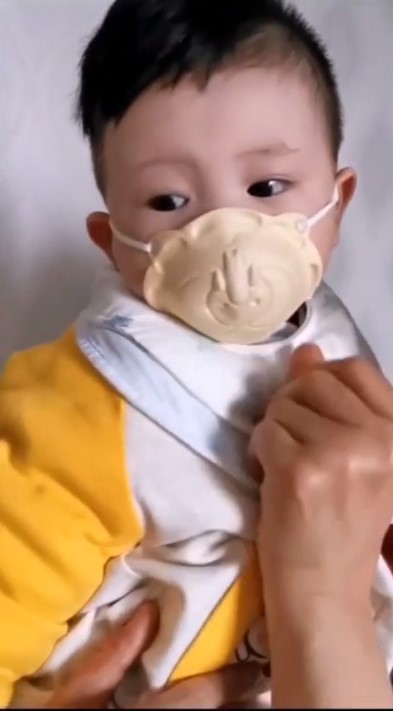face_with_mask: (88, 5, 360, 347)
